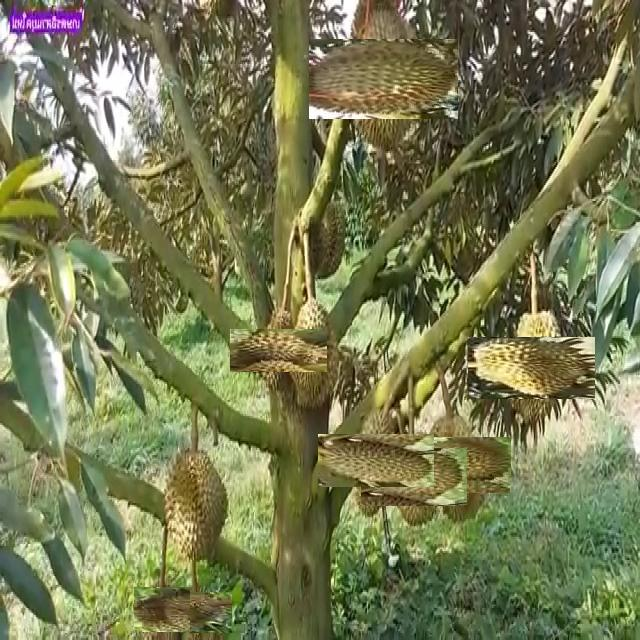durian: (327, 21, 441, 137), (484, 320, 579, 416), (162, 444, 235, 568), (334, 418, 419, 503), (413, 423, 497, 508), (373, 436, 455, 519), (288, 292, 342, 410), (243, 315, 314, 386), (304, 185, 352, 284), (137, 584, 188, 635), (182, 588, 229, 636)
